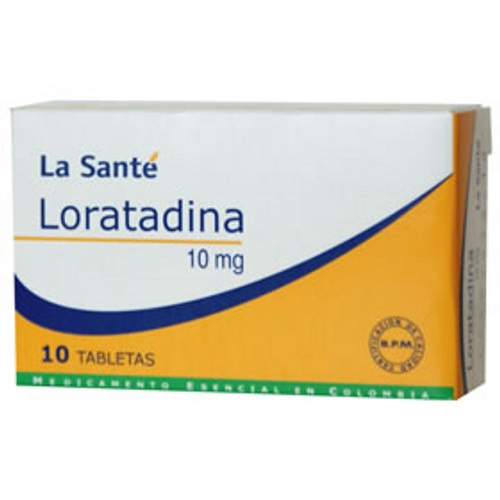LaSante: (13, 113, 459, 397)
